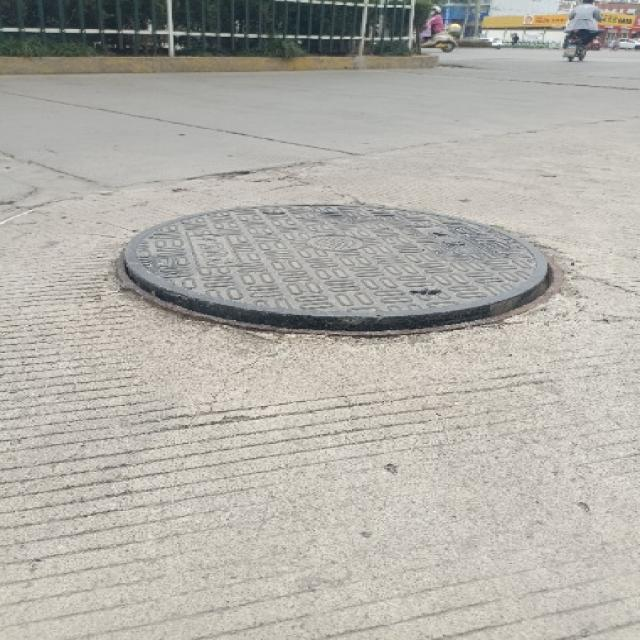Good: (104, 208, 586, 349)
